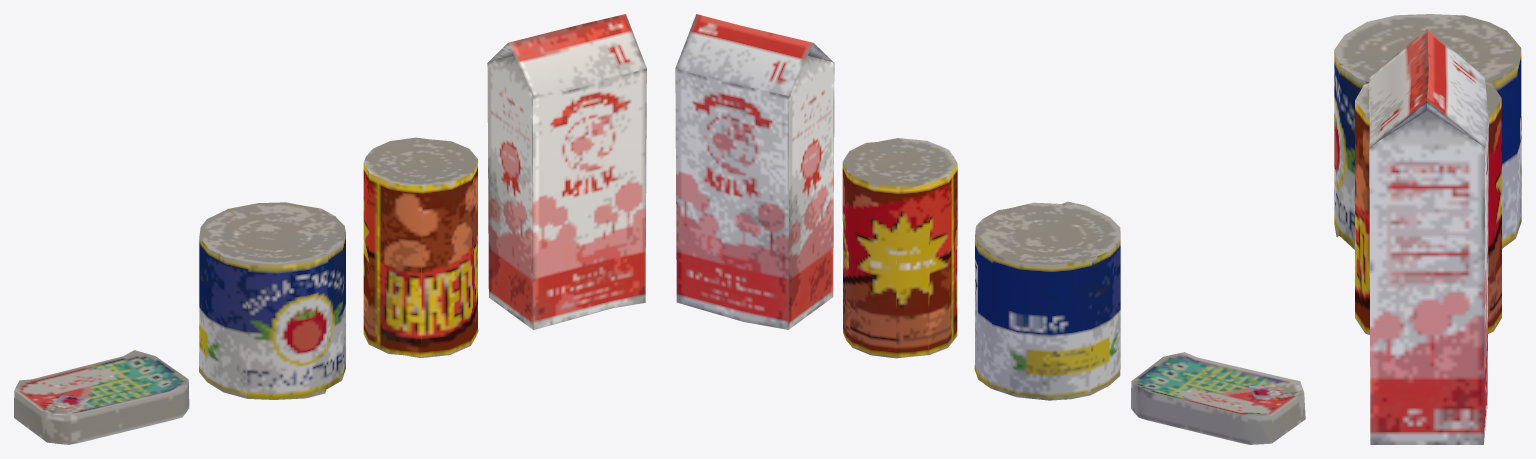
The model's file is long_life_food.glb.
The picture shows the model from 3 angles, left to right: view 1: azimuth 30°, elevation 25°; view 2: azimuth 150°, elevation 25°; view 3: azimuth 270°, elevation 25°; orthographic projection. The views are drawn at different scales.
Visible parts, largest first — view 1: mesh; view 2: mesh; view 3: mesh.
Boxes of the visible parts, x1,y1,x2,y2 form: mesh: (14,14,646,444); mesh: (675,14,1305,444); mesh: (1334,14,1521,444).
Bounding box in the file's own units: 0.5391 × 0.2376 × 0.1159.
Materials: 1 (1 with a texture image).
